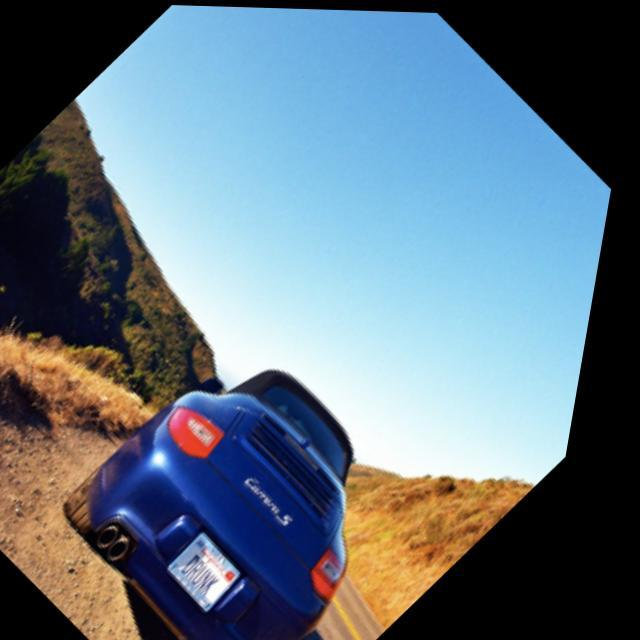license_plate: (178, 528, 272, 611)
